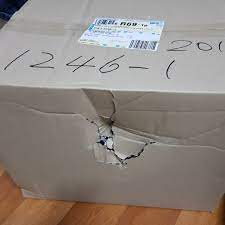damaged package: (88, 86, 163, 166)
